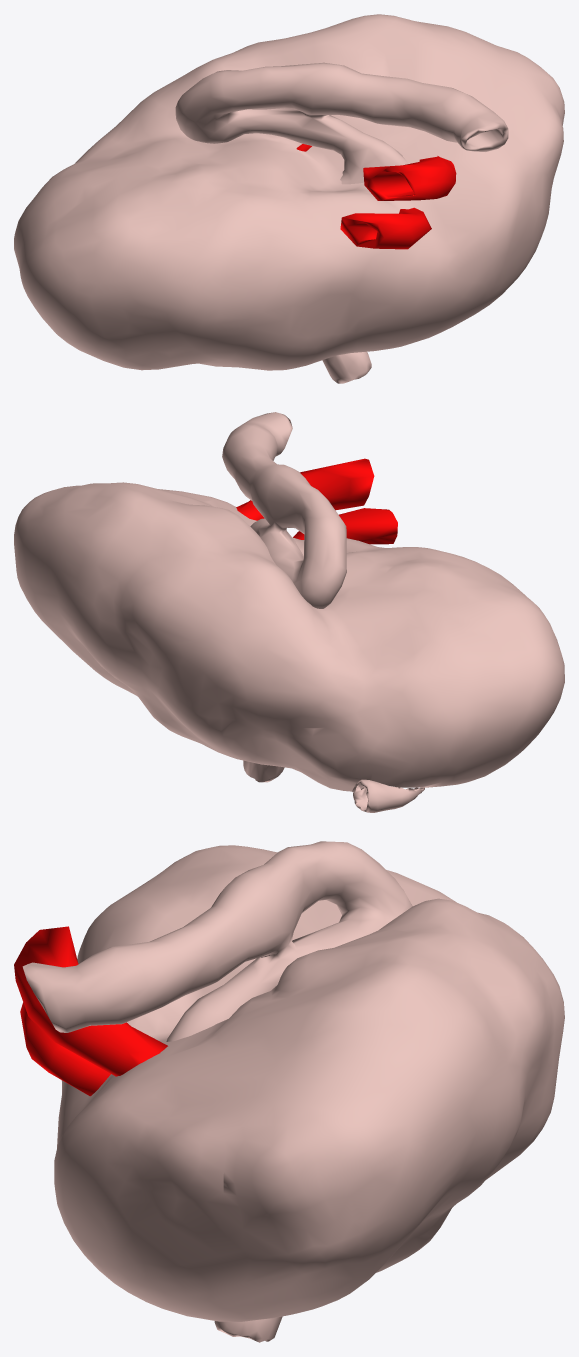
Rendered from nih_f_lymph_node-40.glb.
The picture shows the model from 3 angles, top to bottom: view 1: azimuth 30°, elevation 25°; view 2: azimuth 150°, elevation 25°; view 3: azimuth 270°, elevation 25°; orthographic projection. The views are drawn at different scales.
Parts seen in each view (by area): view 1: Yao_capsule_of_lymph_node, Yao_efferent_lymph_node, Yao_blood_vasculature, Yao_afferent_lymphatic_vessel; view 2: Yao_capsule_of_lymph_node, Yao_efferent_lymph_node, Yao_blood_vasculature, Yao_afferent_lymphatic_vessel; view 3: Yao_capsule_of_lymph_node, Yao_efferent_lymph_node, Yao_blood_vasculature, Yao_afferent_lymphatic_vessel.
Boxes of the visible parts, x1=… form: Yao_capsule_of_lymph_node: x1=14, y1=14, x2=564, y2=370; Yao_efferent_lymph_node: x1=175, y1=62, x2=508, y2=184; Yao_blood_vasculature: x1=296, y1=144, x2=456, y2=249; Yao_afferent_lymphatic_vessel: x1=322, y1=351, x2=371, y2=383; Yao_capsule_of_lymph_node: x1=14, y1=482, x2=564, y2=791; Yao_efferent_lymph_node: x1=222, y1=412, x2=346, y2=608; Yao_blood_vasculature: x1=236, y1=458, x2=397, y2=544; Yao_afferent_lymphatic_vessel: x1=243, y1=760, x2=424, y2=812; Yao_capsule_of_lymph_node: x1=54, y1=845, x2=564, y2=1321; Yao_efferent_lymph_node: x1=22, y1=841, x2=412, y2=1041; Yao_blood_vasculature: x1=14, y1=926, x2=167, y2=1096; Yao_afferent_lymphatic_vessel: x1=214, y1=1316, x2=282, y2=1342.
Size of the model in its own units: 0.0196 by 0.0113 by 0.0125.
